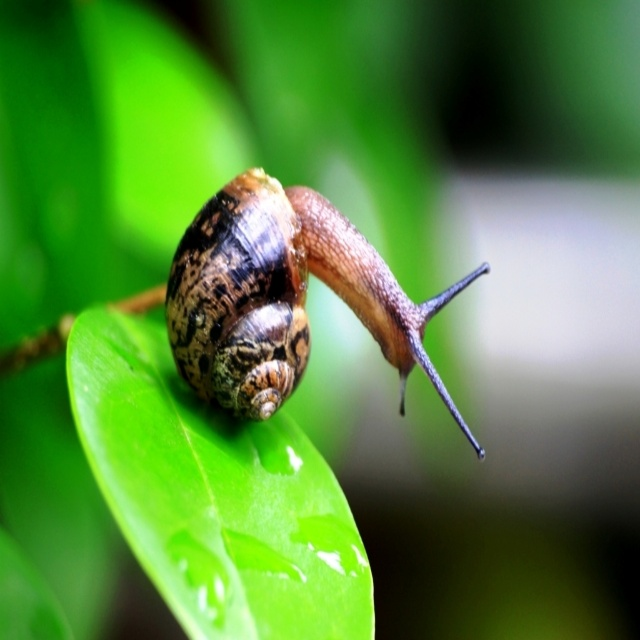Snail: (163, 163, 492, 465)
